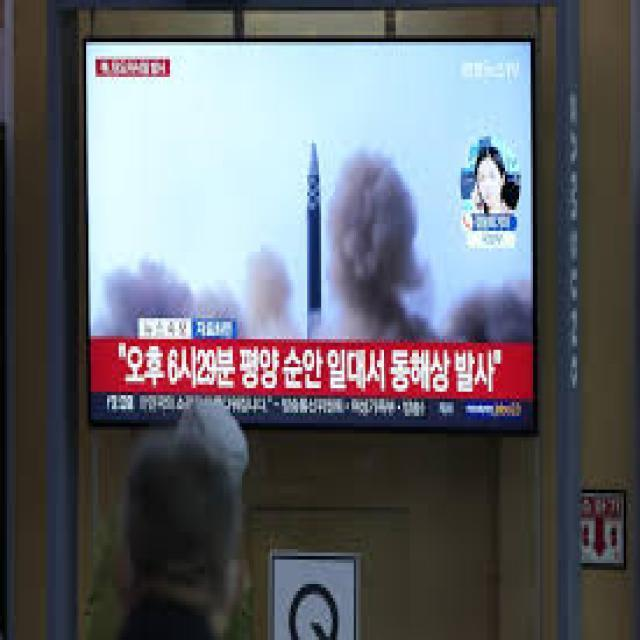missile: (302, 131, 326, 331)
